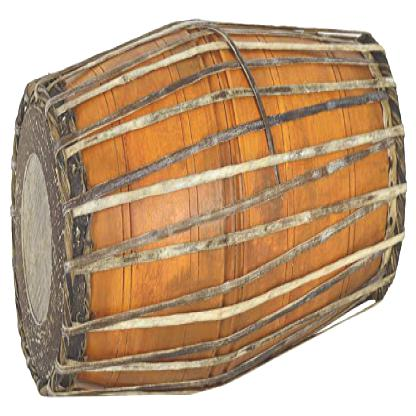Mridangam: (2, 6, 412, 413)
